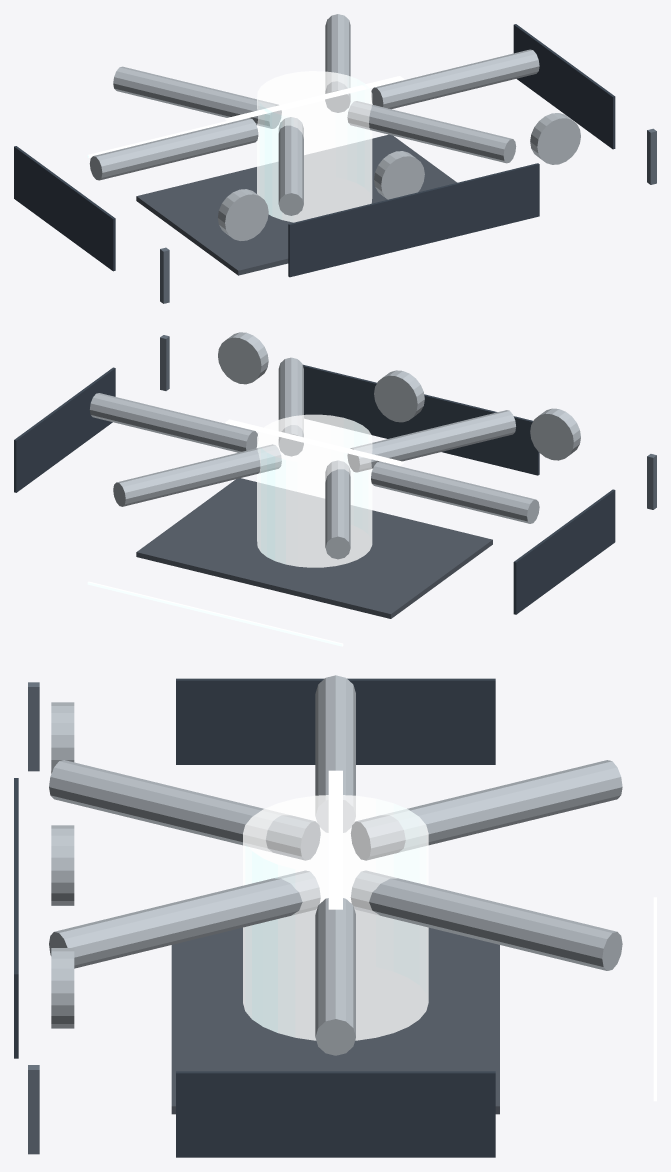
Rendered from floor-air.glb.
The picture shows the model from 3 angles, top to bottom: view 1: azimuth 30°, elevation 25°; view 2: azimuth 150°, elevation 25°; view 3: azimuth 270°, elevation 25°; orthographic projection. The views are drawn at different scales.
Parts seen in each view (by area): view 1: Slab_air, WallBack_air, LungCore, WallL_air, WallR_air, Duct_3, Duct_5, Duct_0, Duct_2, Duct_4, Duct_1, Fan_2 (+6 smaller); view 2: Slab_air, LungCore, WallBack_air, WallL_air, WallR_air, Duct_3, Duct_1, Duct_0, Duct_4, Duct_2, Duct_5, Fan_0 (+6 smaller); view 3: Slab_air, LungCore, WallR_air, WallL_air, Duct_1, Duct_2, Duct_4, Duct_5, Duct_0, Duct_3, LightStrip_air, Fan_1 (+6 smaller).
Boxes of the visible parts, bbox=[...] form: Slab_air: bbox=[136, 134, 457, 275]; WallBack_air: bbox=[288, 163, 539, 277]; LungCore: bbox=[257, 71, 372, 222]; WallL_air: bbox=[14, 146, 115, 271]; WallR_air: bbox=[513, 24, 615, 149]; Duct_3: bbox=[89, 118, 258, 180]; Duct_5: bbox=[347, 101, 516, 163]; Duct_0: bbox=[371, 49, 539, 109]; Duct_2: bbox=[113, 66, 281, 128]; Duct_4: bbox=[278, 117, 303, 215]; Duct_1: bbox=[325, 14, 350, 112]; Fan_2: bbox=[530, 113, 580, 164]; Slab_air: bbox=[136, 478, 492, 618]; LungCore: bbox=[257, 414, 372, 567]; WallBack_air: bbox=[303, 364, 539, 475]; WallL_air: bbox=[513, 489, 615, 614]; WallR_air: bbox=[14, 367, 115, 492]; Duct_3: bbox=[371, 461, 539, 523]; Duct_1: bbox=[113, 444, 281, 506]; Duct_0: bbox=[89, 393, 257, 452]; Duct_4: bbox=[347, 410, 515, 472]; Duct_2: bbox=[325, 460, 350, 559]; Duct_5: bbox=[278, 357, 303, 456]; Fan_0: bbox=[530, 408, 580, 460]; Slab_air: bbox=[171, 909, 499, 1114]; LungCore: bbox=[243, 794, 428, 1040]; WallR_air: bbox=[176, 1071, 495, 1157]; WallL_air: bbox=[176, 678, 495, 764]; Duct_1: bbox=[350, 870, 622, 970]; Duct_2: bbox=[351, 760, 622, 860]; Duct_4: bbox=[49, 760, 320, 860]; Duct_5: bbox=[49, 870, 320, 968]; Duct_0: bbox=[315, 898, 355, 1055]; Duct_3: bbox=[315, 675, 355, 832]; LightStrip_air: bbox=[328, 770, 342, 909]; Fan_1: bbox=[51, 825, 74, 905].
Size of the model in its own units: 16.08 by 3.52 by 11.07.
